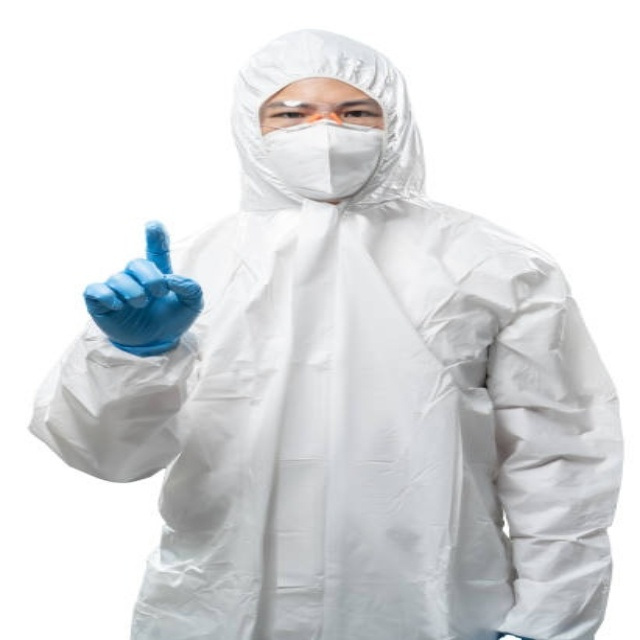Gafas: (262, 106, 382, 131)
Guantes: (85, 220, 205, 357)
Mascara: (257, 120, 387, 201)
